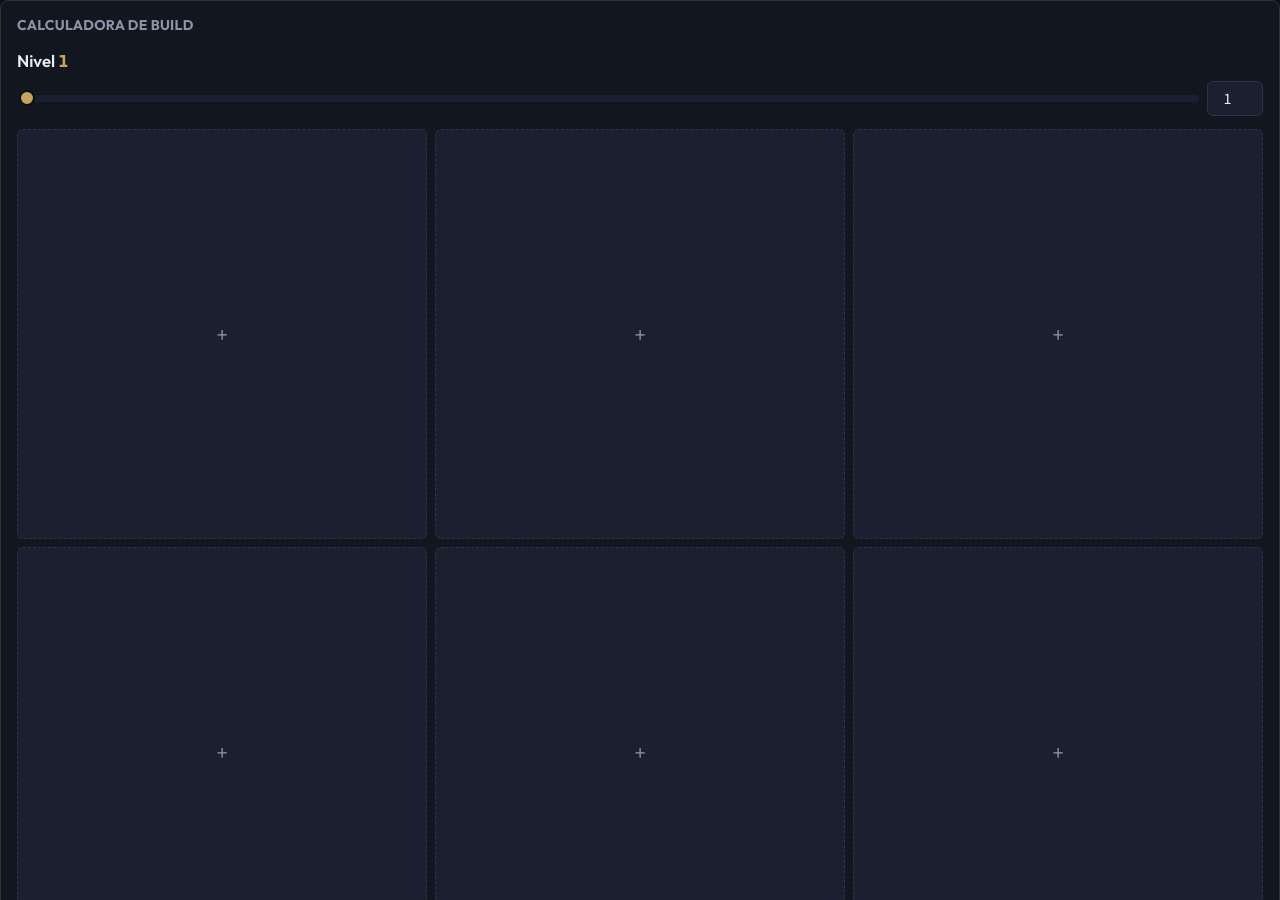
it: BuildCalculator › calcula CDR desde Ability Haste de ítems
Expected: the text "1" is shown, left=58, top=50, right=68, bottom=71
Click the button with test id "build-slot-1" at (640, 334), box left=435, top=129, right=845, bottom=539
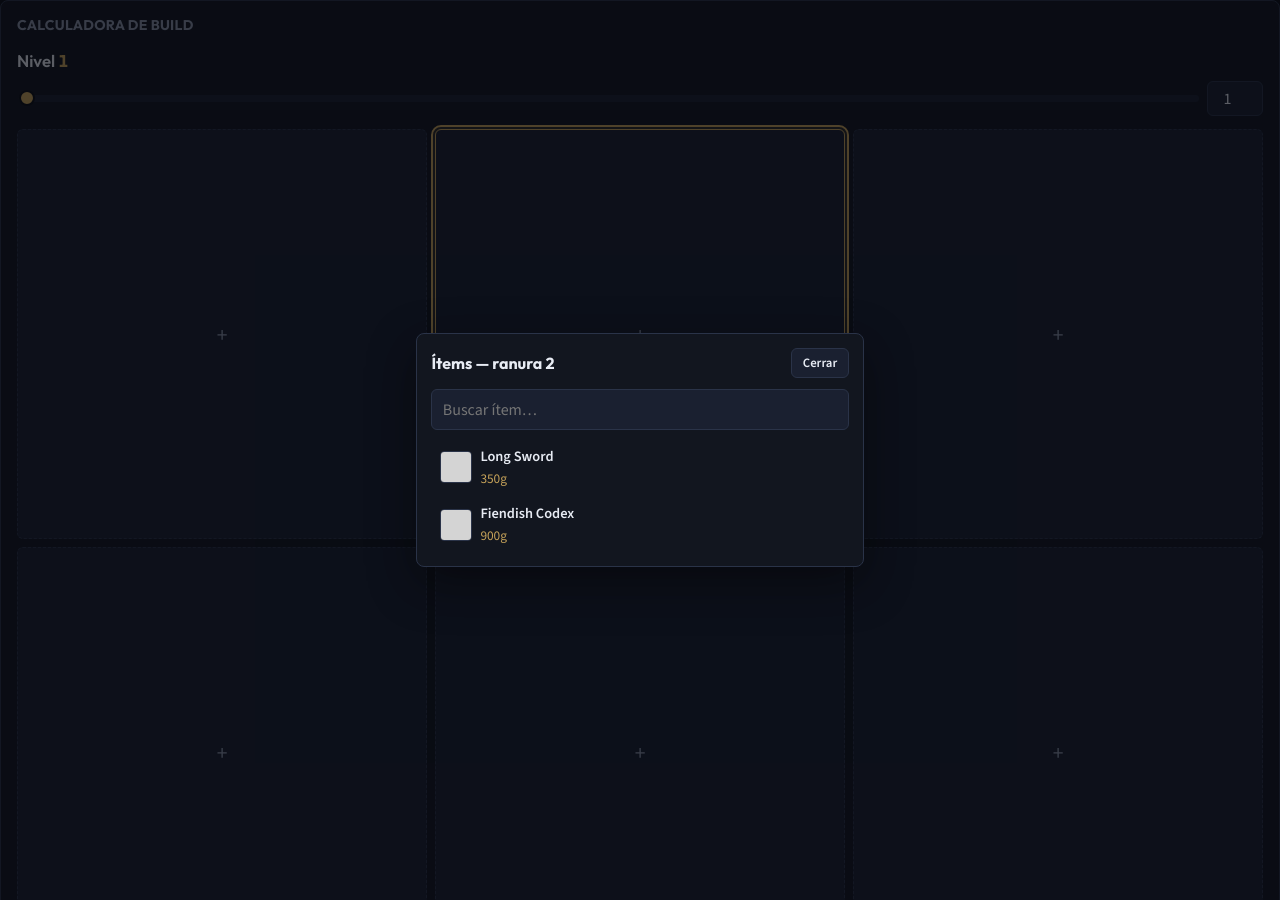
Expected: the button with test id "pick-item-3108" is shown
Click the button with test id "pick-item-3108" at (456, 525), box left=431, top=498, right=849, bottom=552
(page scrolled)
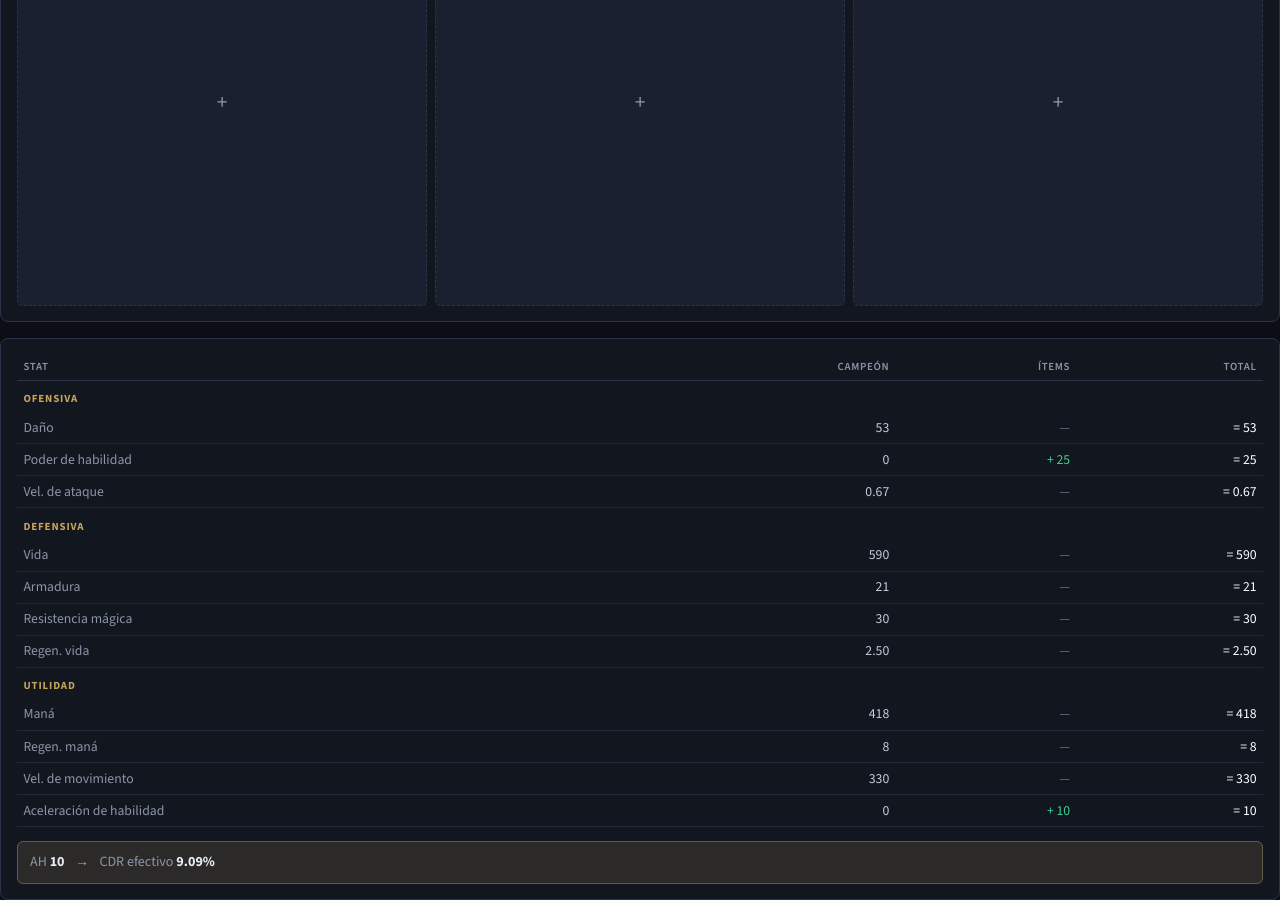
Expected: the element with test id "build-cdr" shows "AH 10", left=17, top=841, right=1263, bottom=884
Expected: the element with test id "build-cdr" reads "AH 10 → CDR efectivo 9.09%", left=17, top=841, right=1263, bottom=884
